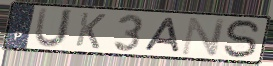3: (112, 12, 145, 53)
A: (142, 16, 182, 54)
K: (73, 11, 108, 50)
N: (179, 16, 229, 57)
S: (222, 19, 262, 61)
U: (32, 7, 76, 51)
